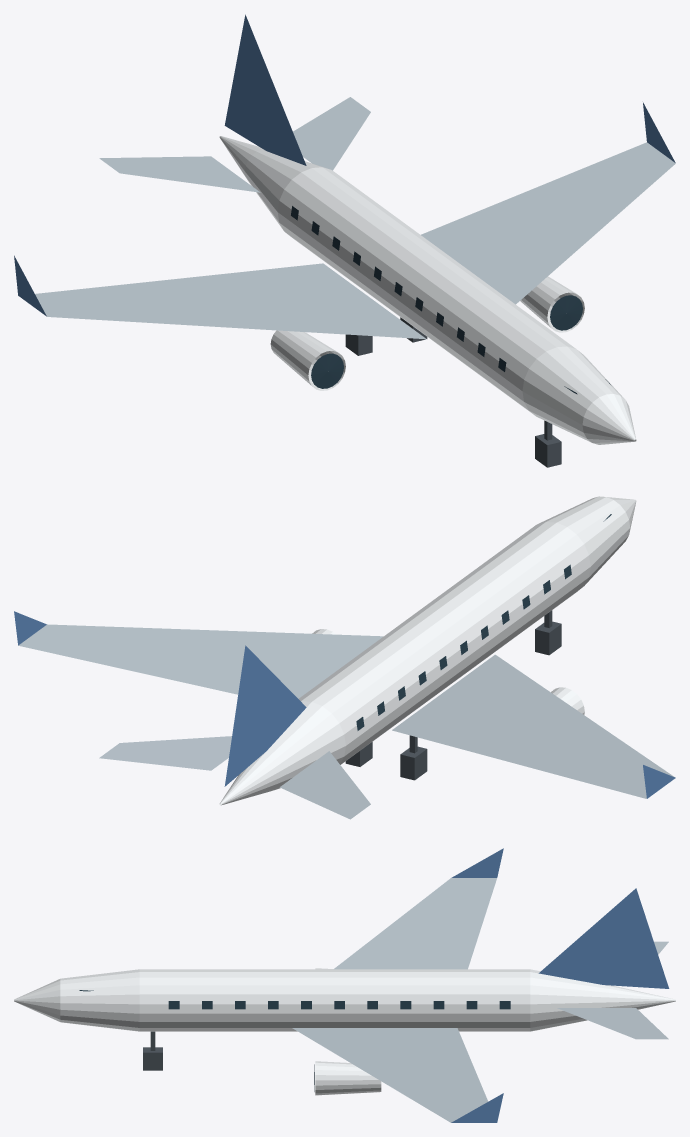
Rendered from b737-SAS.gltf.
3 renders of one model, top to bottom at view 1: azimuth 30°, elevation 25°; view 2: azimuth 150°, elevation 25°; view 3: azimuth 270°, elevation 25°, orthographic. The views are drawn at different scales.
Visible parts, largest first — view 1: object 1, Gear; view 2: object 1, Gear; view 3: object 1, Gear.
Part boxes in pixels (x1=…): object 1: x1=14, y1=14, x2=675, y2=444; Gear: x1=345, y1=317, x2=561, y2=467; object 1: x1=14, y1=496, x2=675, y2=819; Gear: x1=345, y1=610, x2=561, y2=780; object 1: x1=14, y1=848, x2=675, y2=1122; Gear: x1=143, y1=1031, x2=162, y2=1070.
Bounding box in the file's own units: 35 × 12 × 40.
